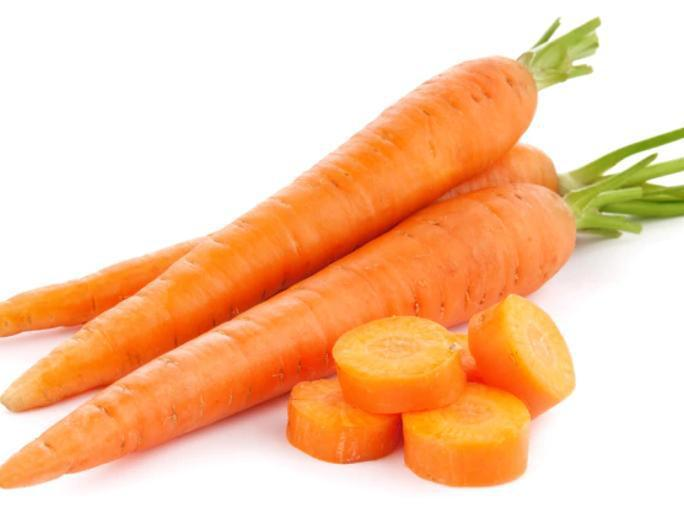carrot: (24, 26, 670, 478)
